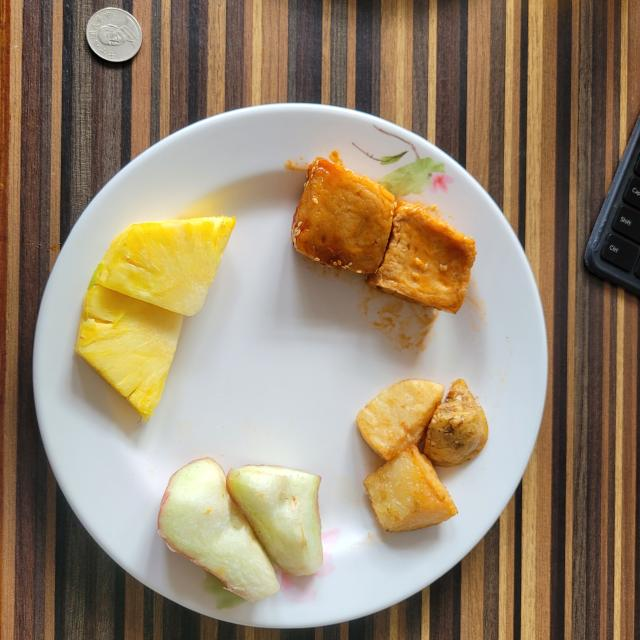coin: (86, 8, 142, 62)
creamy tofu: (291, 158, 476, 314)
fried potato: (356, 379, 488, 531)
pineapple: (75, 216, 235, 421)
